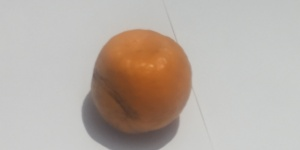BAD: (87, 23, 193, 138)
